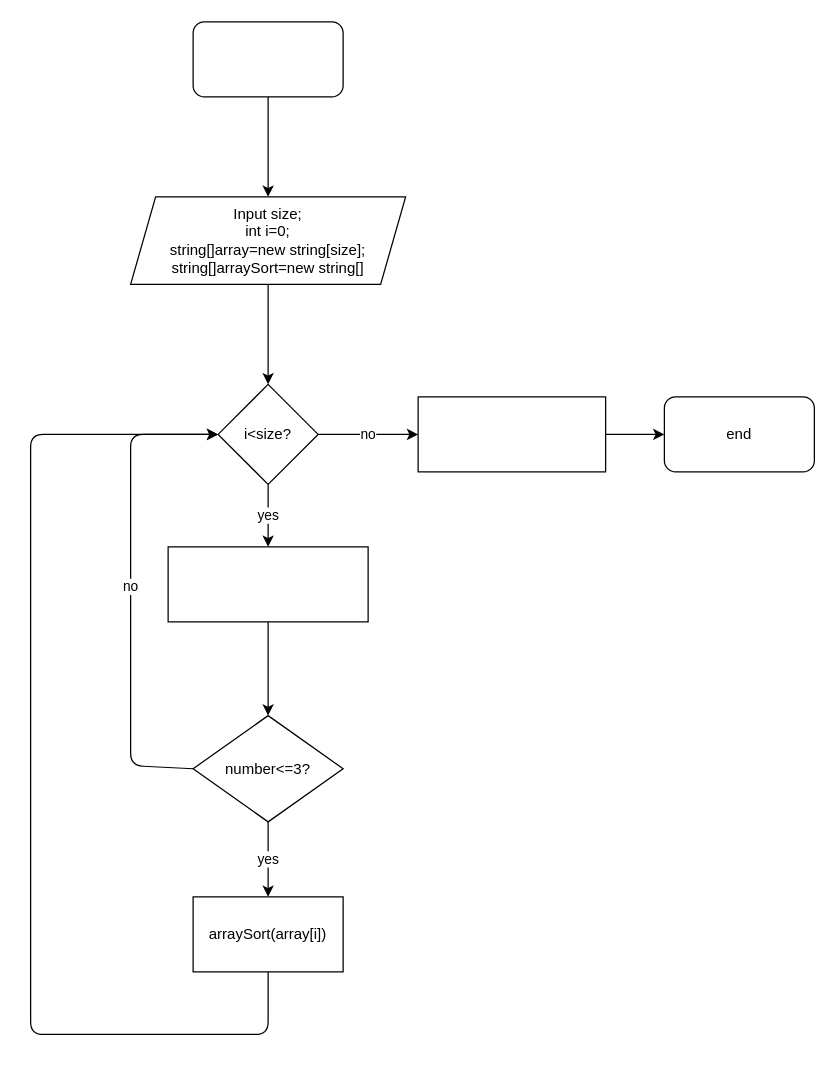
Some shapes in this 836 by 1066 pixel diagram are drawn without their labels. Each missing label, with the box of its shape:
input array[i]; string index=array[i]; int number=index.length; i++;: (167, 546, 368, 622)
print arraySort(array[i]): (417, 396, 606, 472)
start: (192, 21, 343, 97)
